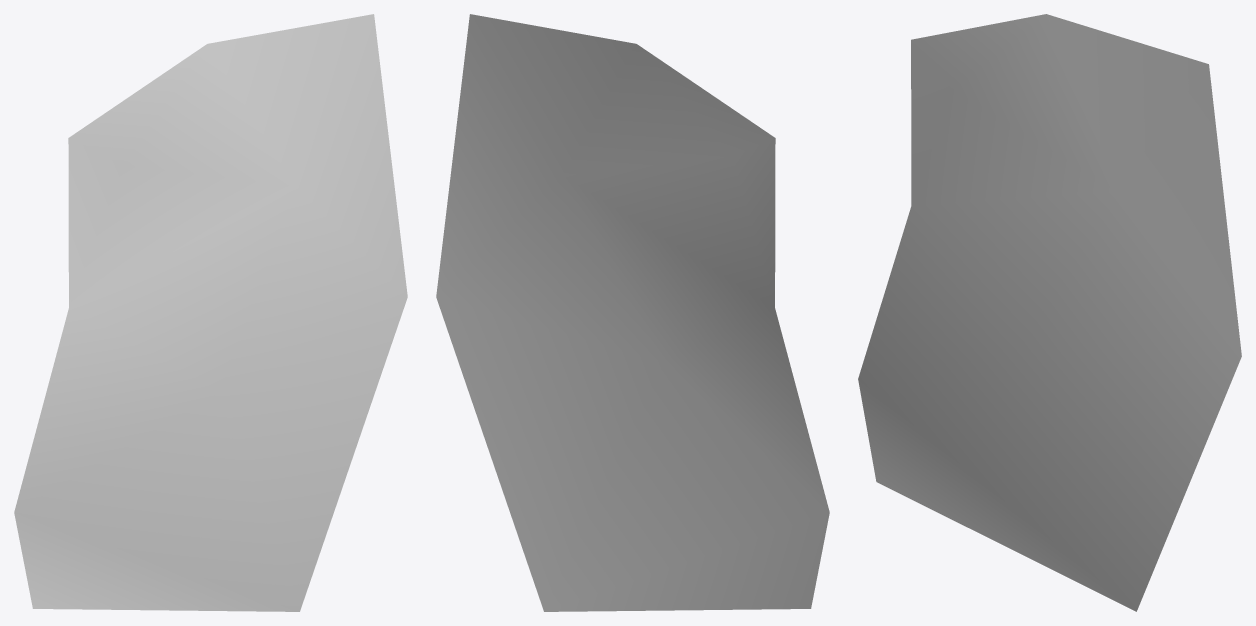
File: SM_Env_Vine_05.fbx
The picture shows the model from 3 angles, left to right: view 1: azimuth 30°, elevation 25°; view 2: azimuth 150°, elevation 25°; view 3: azimuth 330°, elevation 25°; orthographic projection. The views are drawn at different scales.
Parts seen in each view (by area): view 1: SM_Env_Vine_05; view 2: SM_Env_Vine_05; view 3: SM_Env_Vine_05.
Part boxes in pixels (left/top/right/bottom): SM_Env_Vine_05: left=14, top=14, right=407, bottom=611; SM_Env_Vine_05: left=436, top=14, right=829, bottom=611; SM_Env_Vine_05: left=858, top=14, right=1241, bottom=611.
Size of the model in its own units: 95.89 by 137 by 8.43.
